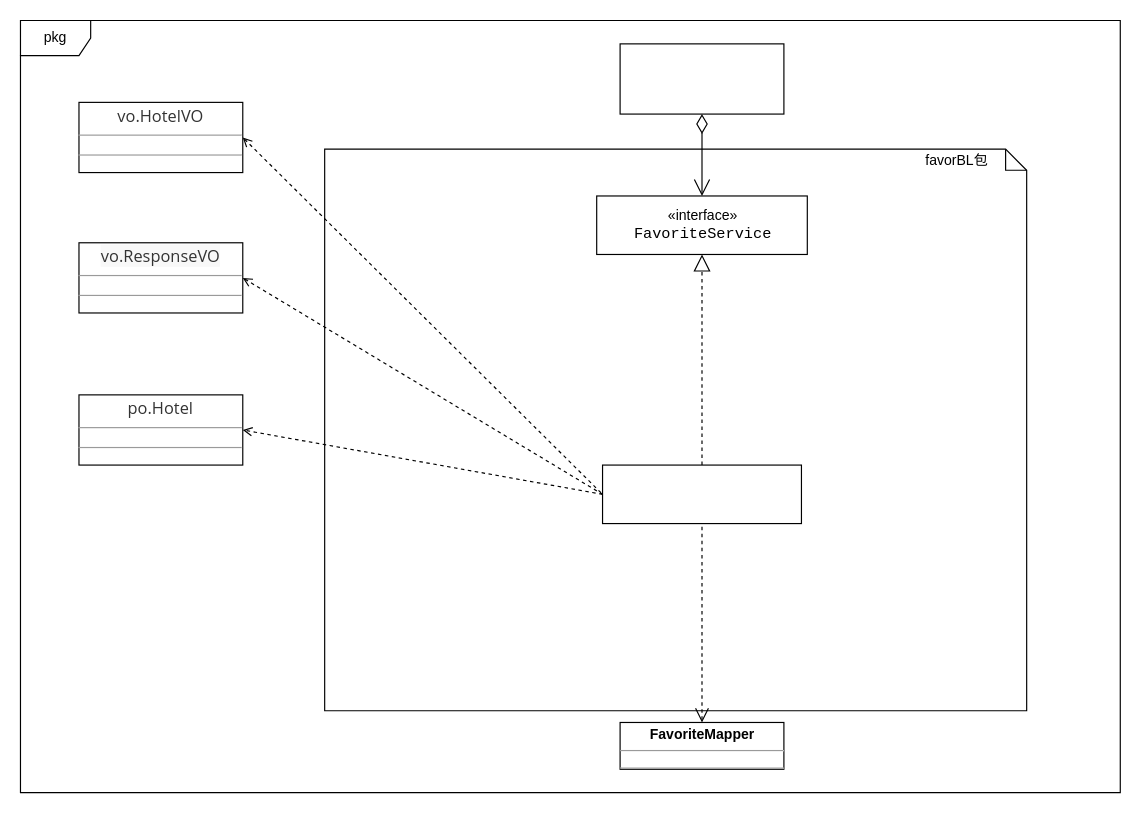
Some shapes in this 1141 by 813 pixel diagram are drawn without their labels. The centre of each missing label's shape, as x and y in pixels:
FavoriteController: [701,78]
FavoriteServiceImpl: [701,494]
